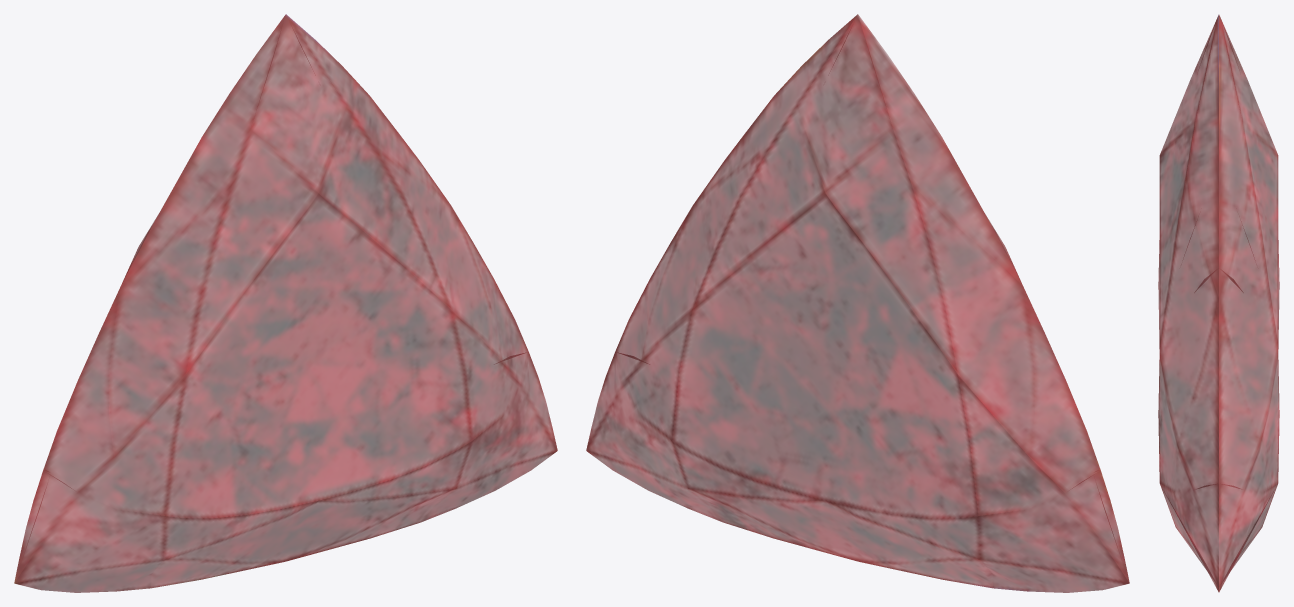
File: Trillion.glb
3 renders of one model, left to right at view 1: azimuth 30°, elevation 25°; view 2: azimuth 150°, elevation 25°; view 3: azimuth 270°, elevation 25°, orthographic. The views are drawn at different scales.
Visible parts, largest first — view 1: Plane.001_Diamond_Master_0; view 2: Plane.001_Diamond_Master_0; view 3: Plane.001_Diamond_Master_0.
Boxes of the visible parts, box(x1,y1,x2,y2) form: Plane.001_Diamond_Master_0: box(14, 14, 557, 592); Plane.001_Diamond_Master_0: box(586, 14, 1129, 592); Plane.001_Diamond_Master_0: box(1158, 14, 1279, 592).
Size of the model in its own units: 1.17 by 1.13 by 0.2487.
1 material, 1 textured.
